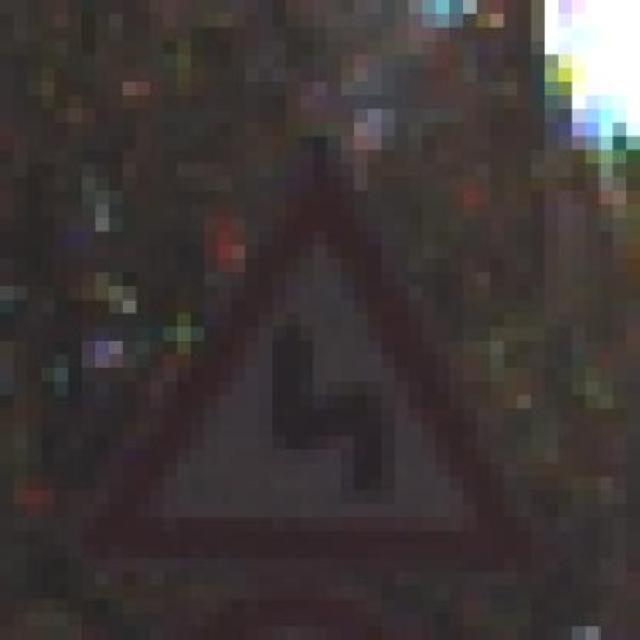Left Zig Zag Traffic: (82, 136, 572, 572)
